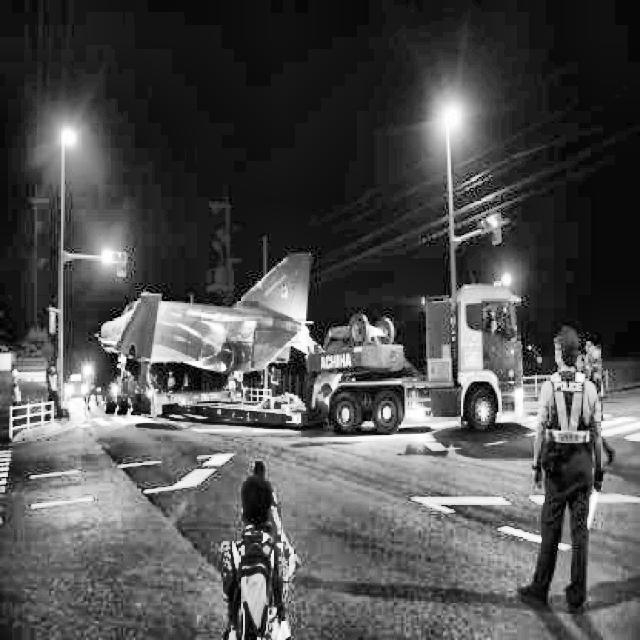F4: (93, 252, 325, 403)
